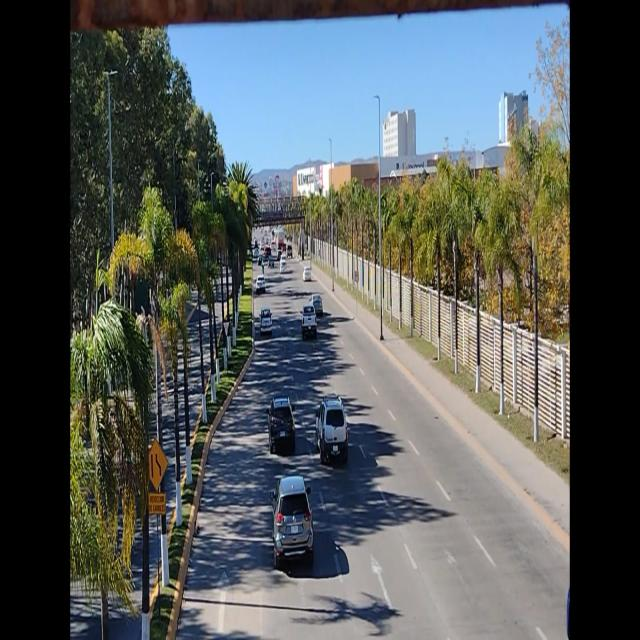Auto: (270, 478, 317, 569), (316, 390, 350, 467), (267, 394, 298, 454), (302, 301, 318, 337), (254, 275, 270, 301), (259, 310, 273, 337), (304, 262, 314, 280)
